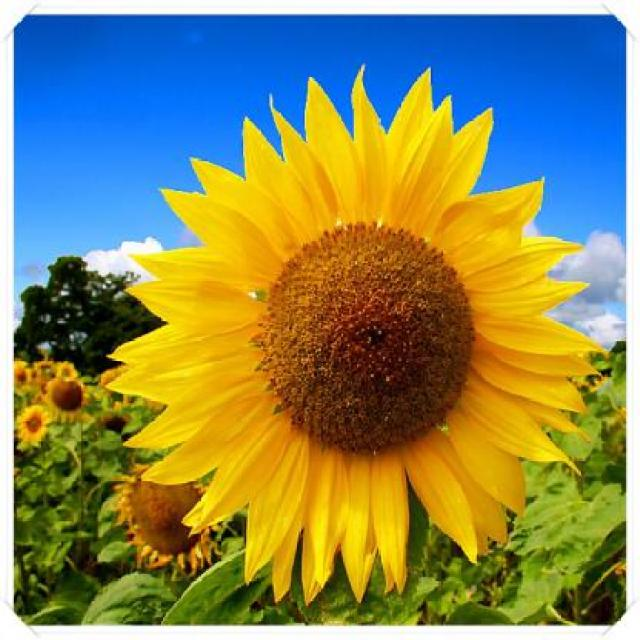sunflower: (103, 40, 592, 610)
